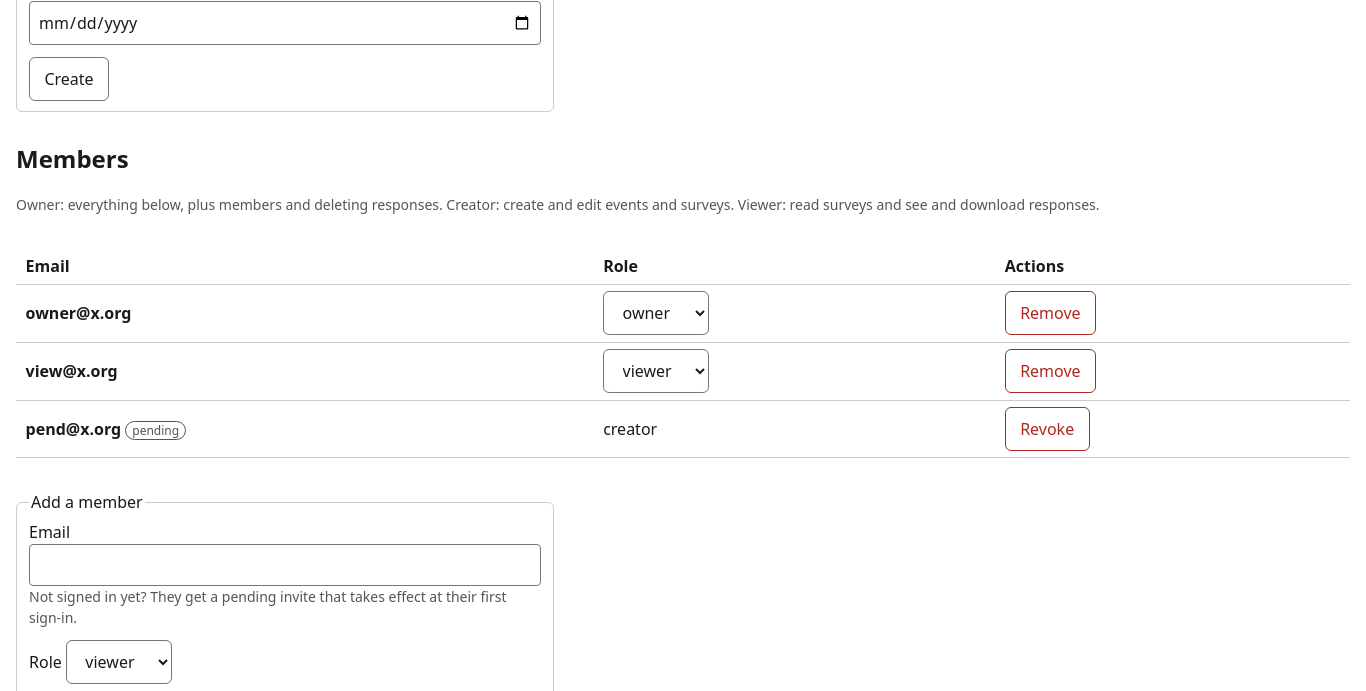
Test case: group page › asks before removing a member and handles the last-owner 409
The width and height of the screenshot is (1366, 691).
(page scrolled)
Expected: the table named "Members of Lab" is shown, [16, 247, 1350, 458]
What coordinates should you click on to do the following:
click the button with aria-label "Remove view@x.org"
I would click on:
 (1050, 371)
Its box is [1005, 349, 1096, 393].
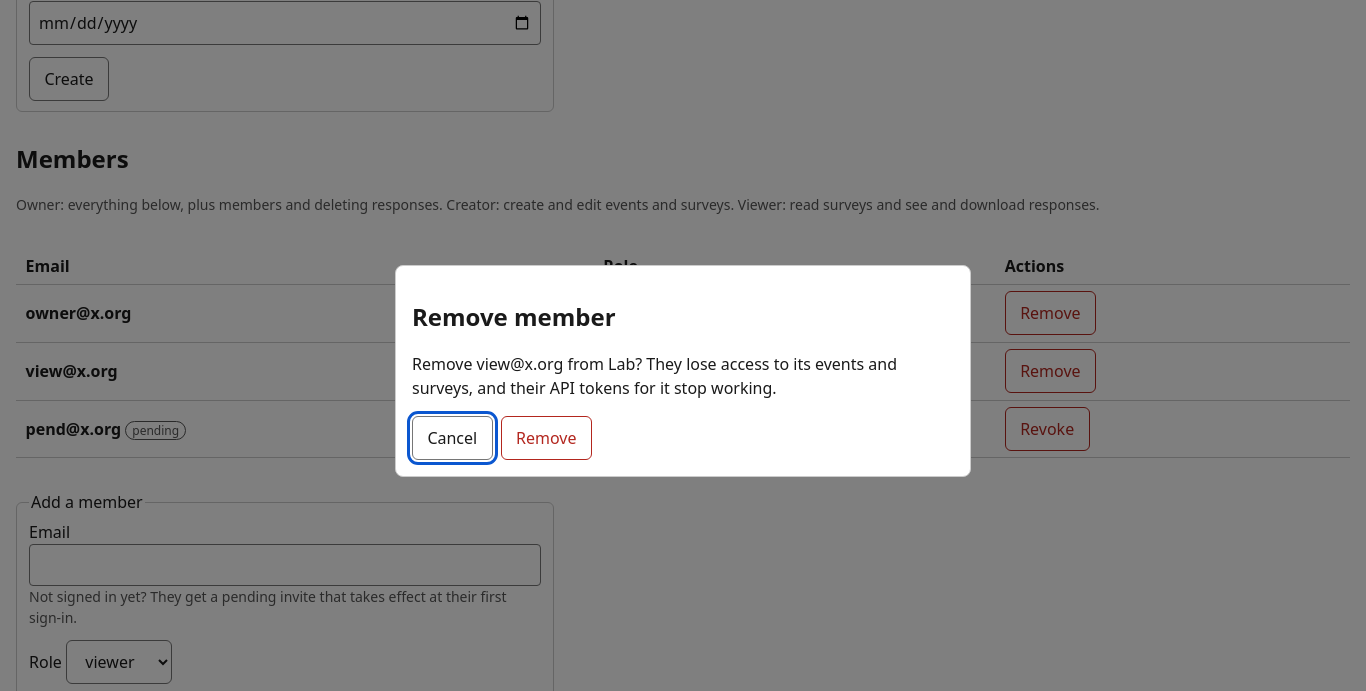
What coordinates should you click on to do the following:
click the button "Cancel"
I would click on:
 (452, 438)
Its box is [412, 416, 493, 460].
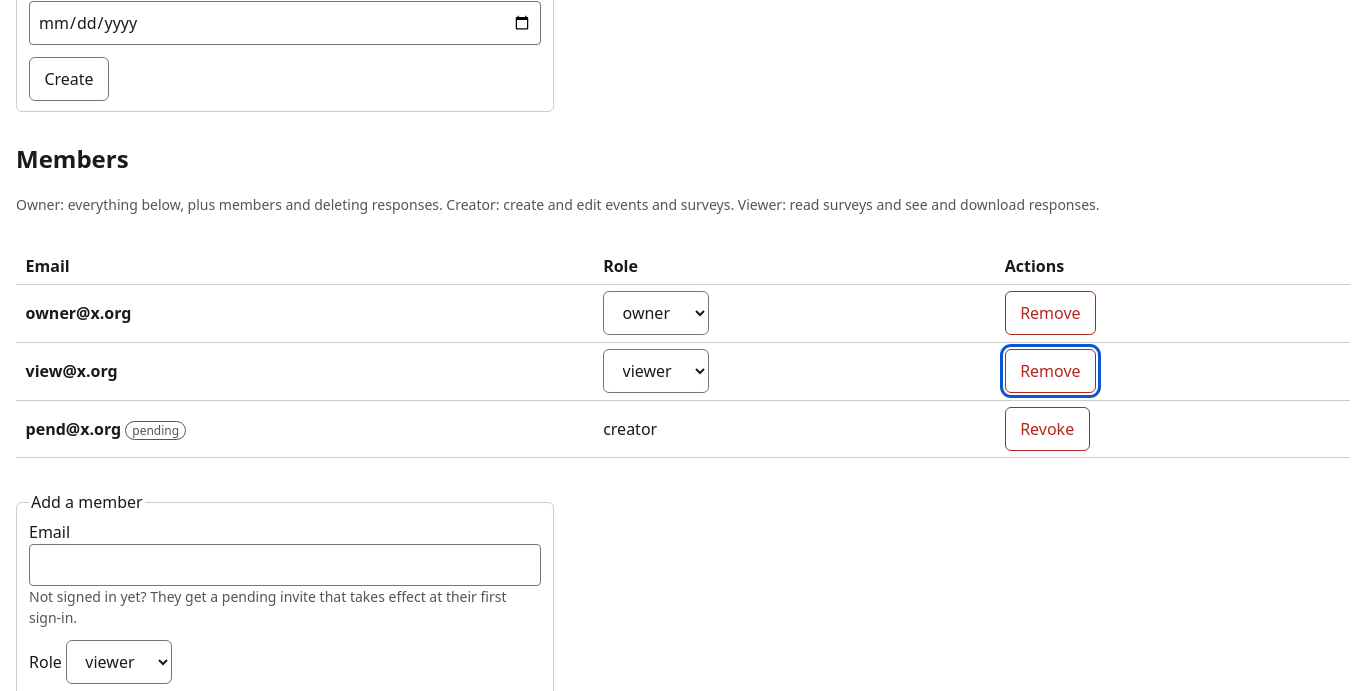
Result: the dialog is gone
What coordinates should you click on to do the following:
click the button with aria-label "Remove view@x.org"
I would click on:
 (1050, 371)
Its box is [1005, 349, 1096, 393].
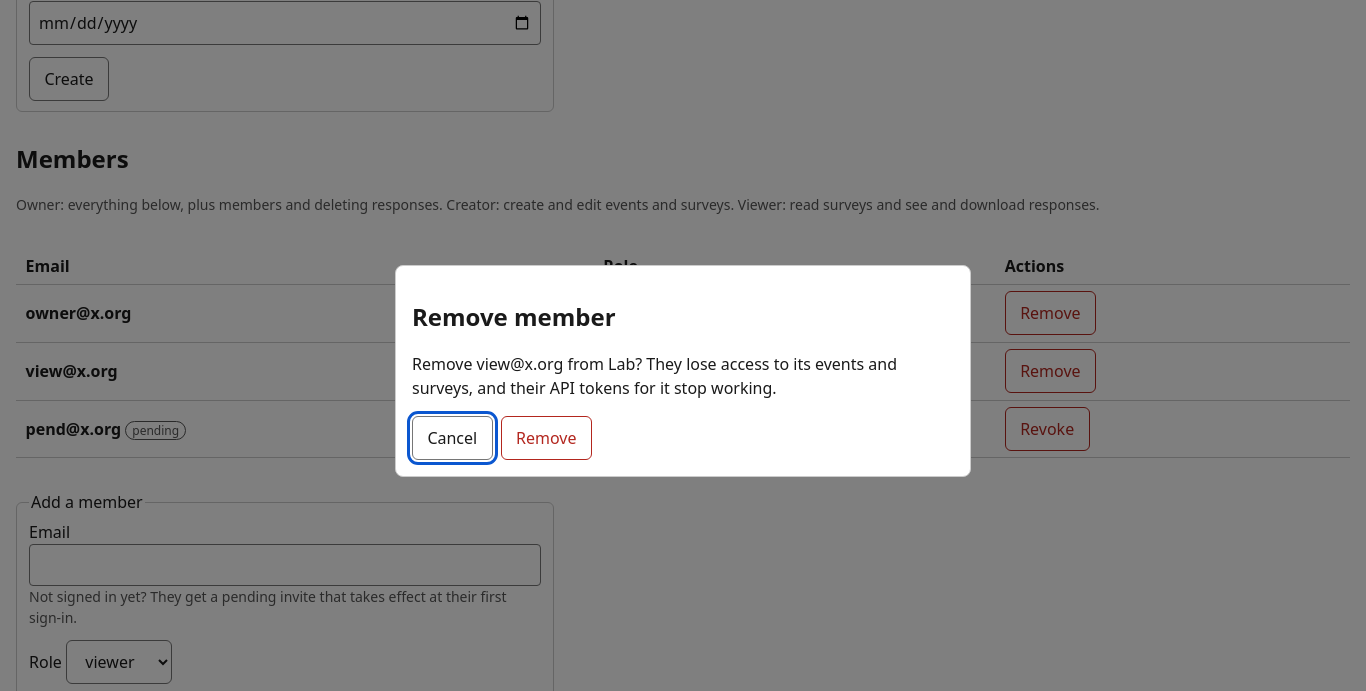
What coordinates should you click on to do the following:
click the button "Remove" below "Remove member"
I would click on:
 (546, 438)
Its box is [501, 416, 592, 460].
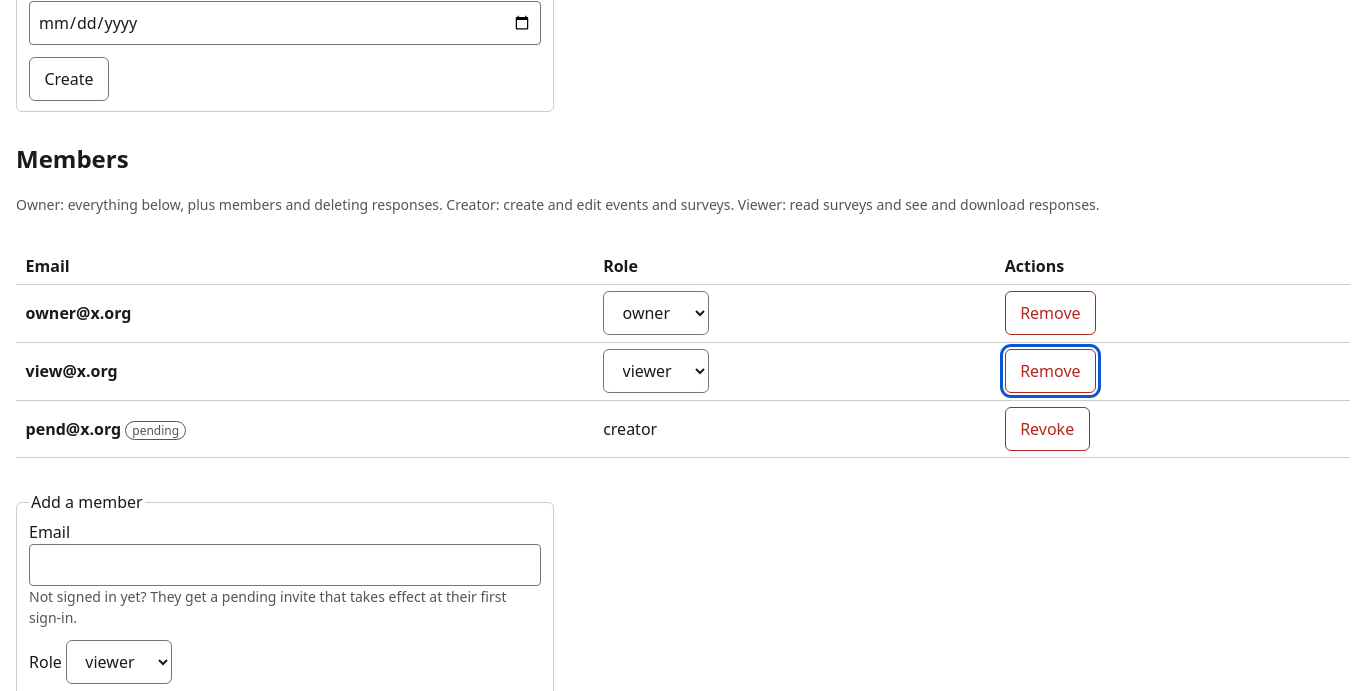
What coordinates should you click on to do the following:
click the button with aria-label "Remove owner@x.org"
I would click on:
 (1050, 314)
Its box is [1005, 292, 1096, 336].
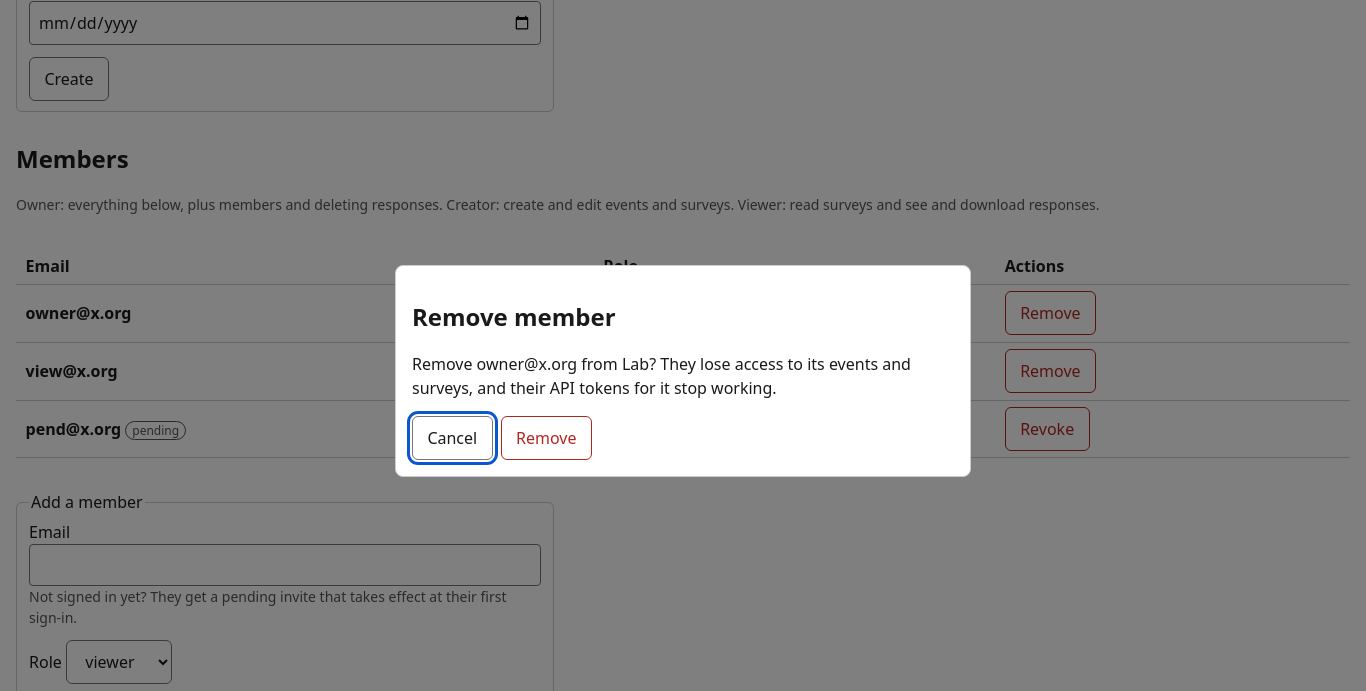
What coordinates should you click on to do the following:
click the button "Remove" below "Remove member"
I would click on:
 (546, 438)
Its box is [501, 416, 592, 460].
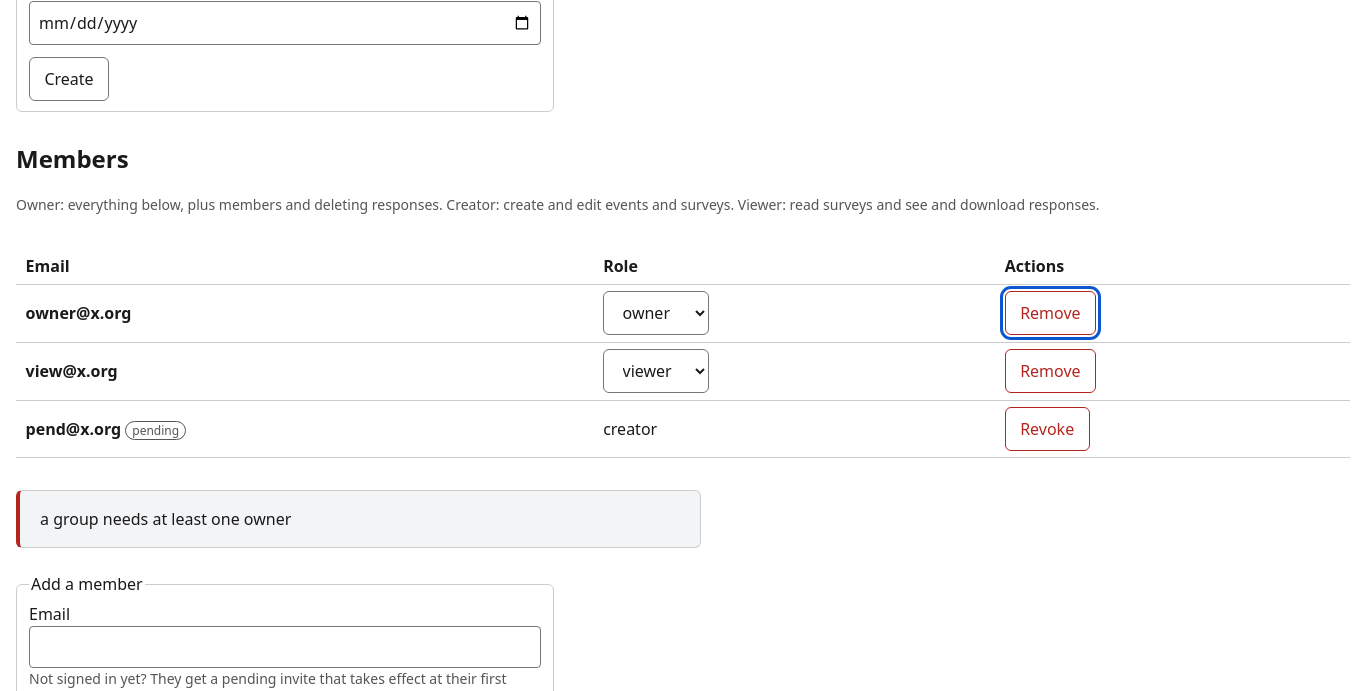
Result: the text "a group needs at least one owner" is shown at [16, 490, 701, 548]
